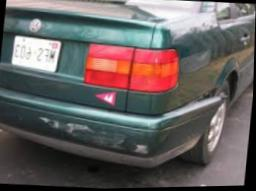Bumper: (37, 112, 150, 158)
